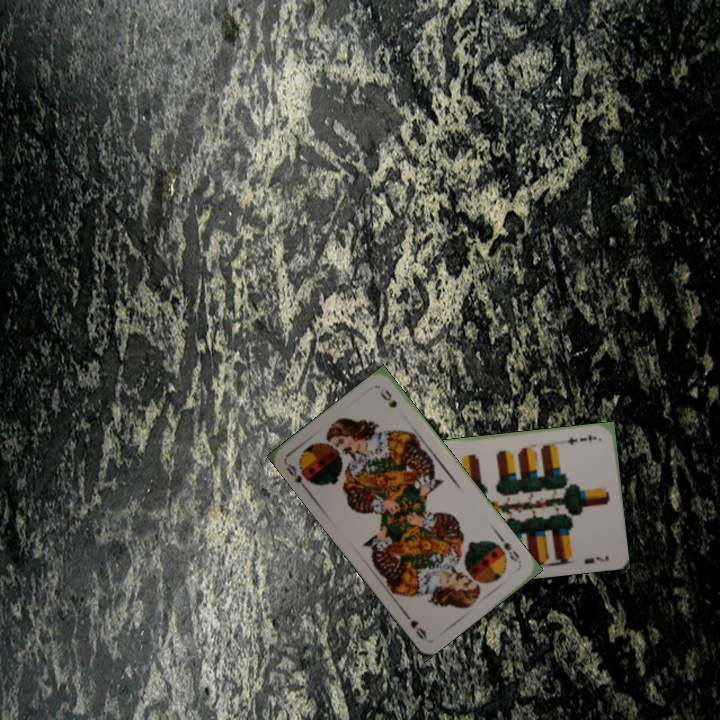E7: (563, 431, 599, 447)
SO: (282, 459, 317, 494), (495, 532, 524, 568)
